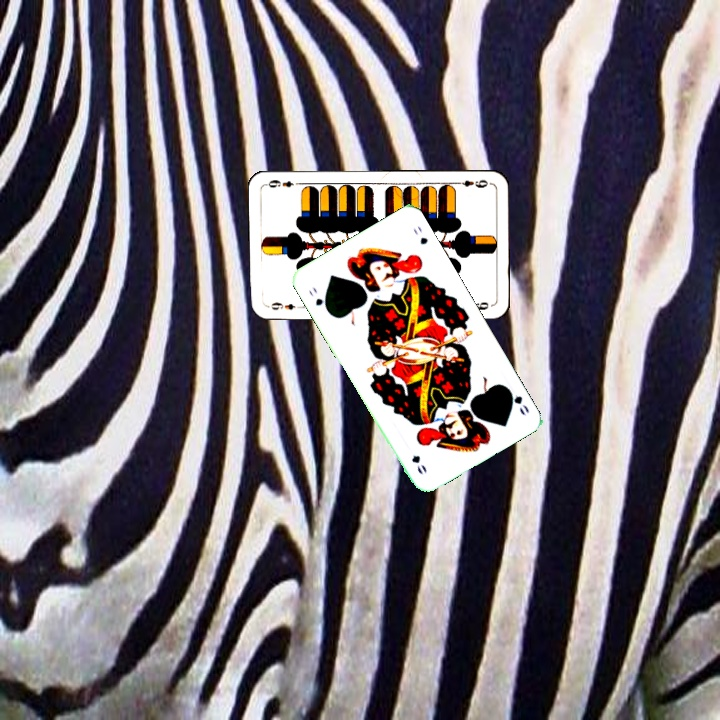E9: (264, 298, 304, 313), (452, 175, 490, 190)
GO: (502, 383, 532, 418), (305, 283, 331, 315)
